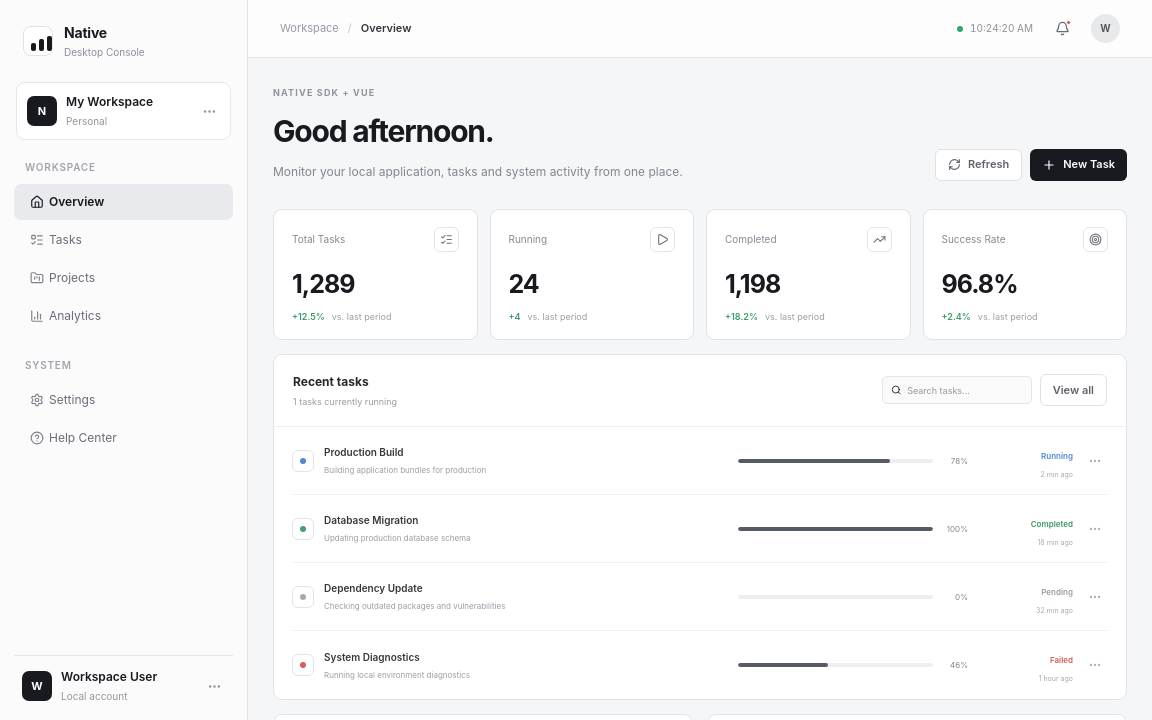
Test: DashboardView › refreshes task timestamps and bridge health
Click the button with class "secondary-button" at (979, 165), box [935,149,1022,181]
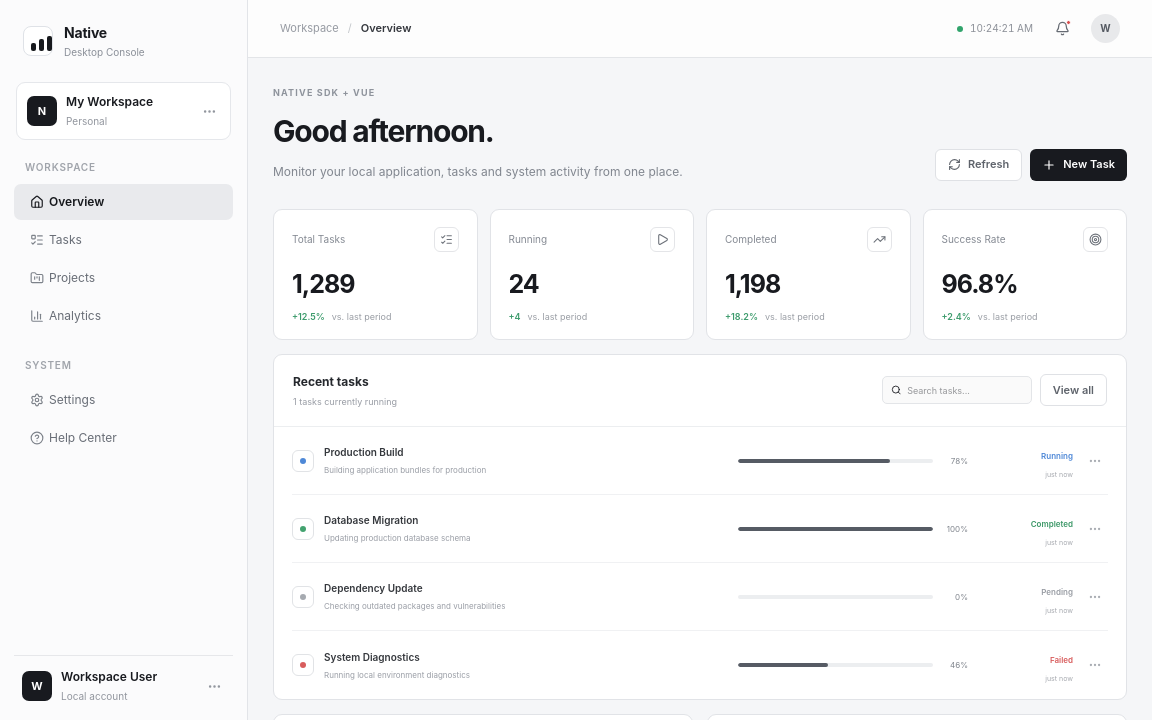
expect the text "just now" is shown: met, box [1045,470,1073,479]
